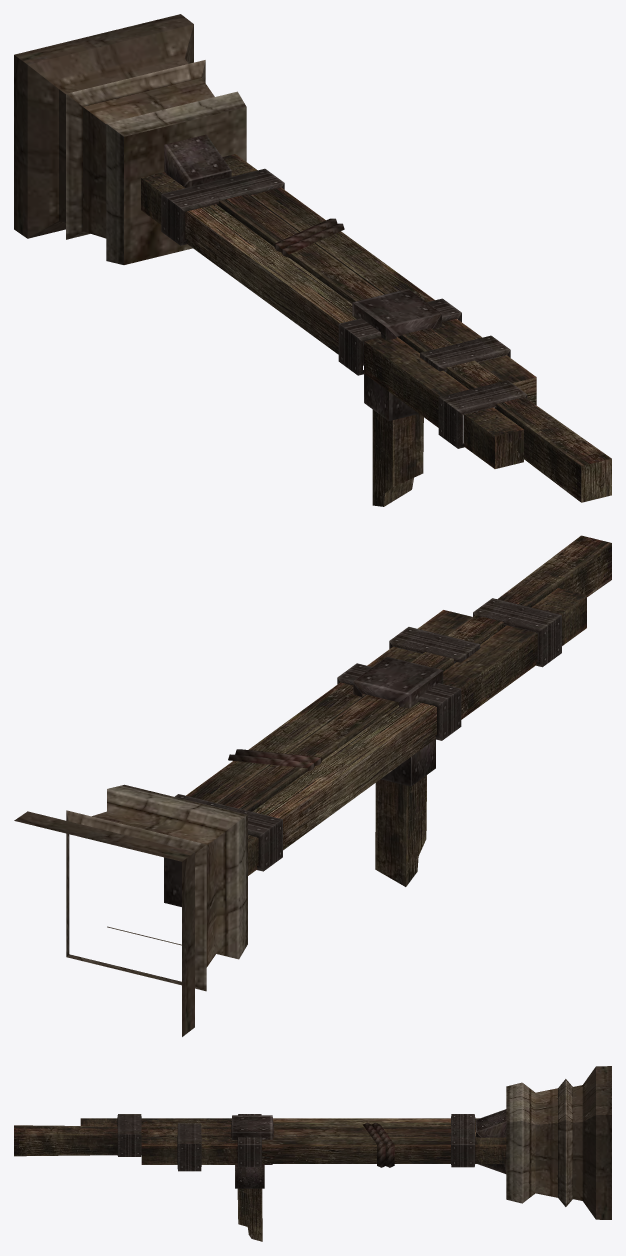
3 views of the same model, one above another, from view 1: azimuth 30°, elevation 25°; view 2: azimuth 150°, elevation 25°; view 3: azimuth 270°, elevation 25° (orthographic). The views are drawn at different scales.
Visible parts, largest first — view 1: model_Object57; view 2: model_Object57; view 3: model_Object57.
Part boxes in pixels (x1,y1,x2,y2): model_Object57: [14, 14, 611, 506]; model_Object57: [14, 535, 611, 1036]; model_Object57: [14, 1066, 611, 1241].
Bounding box in the file's own units: 1.32 × 1.93 × 6.83.
4 materials, 4 textured.
